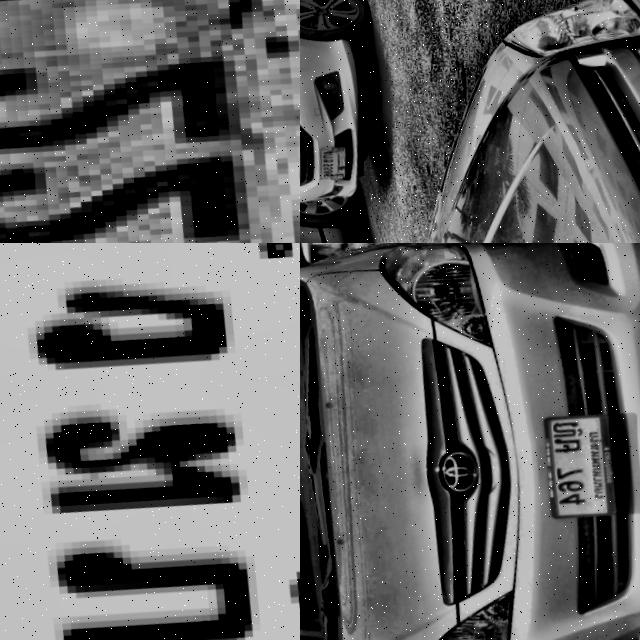license-plate: (0, 243, 300, 640), (0, 0, 300, 243), (538, 394, 631, 514), (321, 139, 359, 184)
